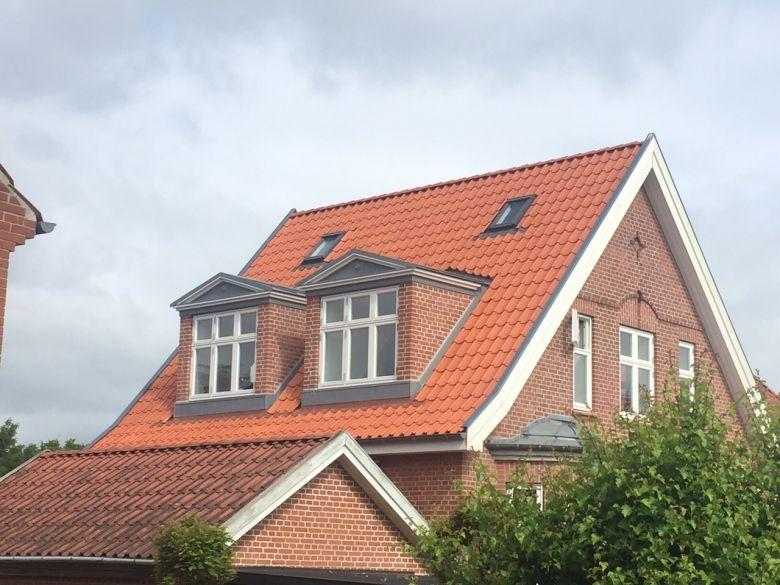kvist windows: (162, 239, 515, 427)
